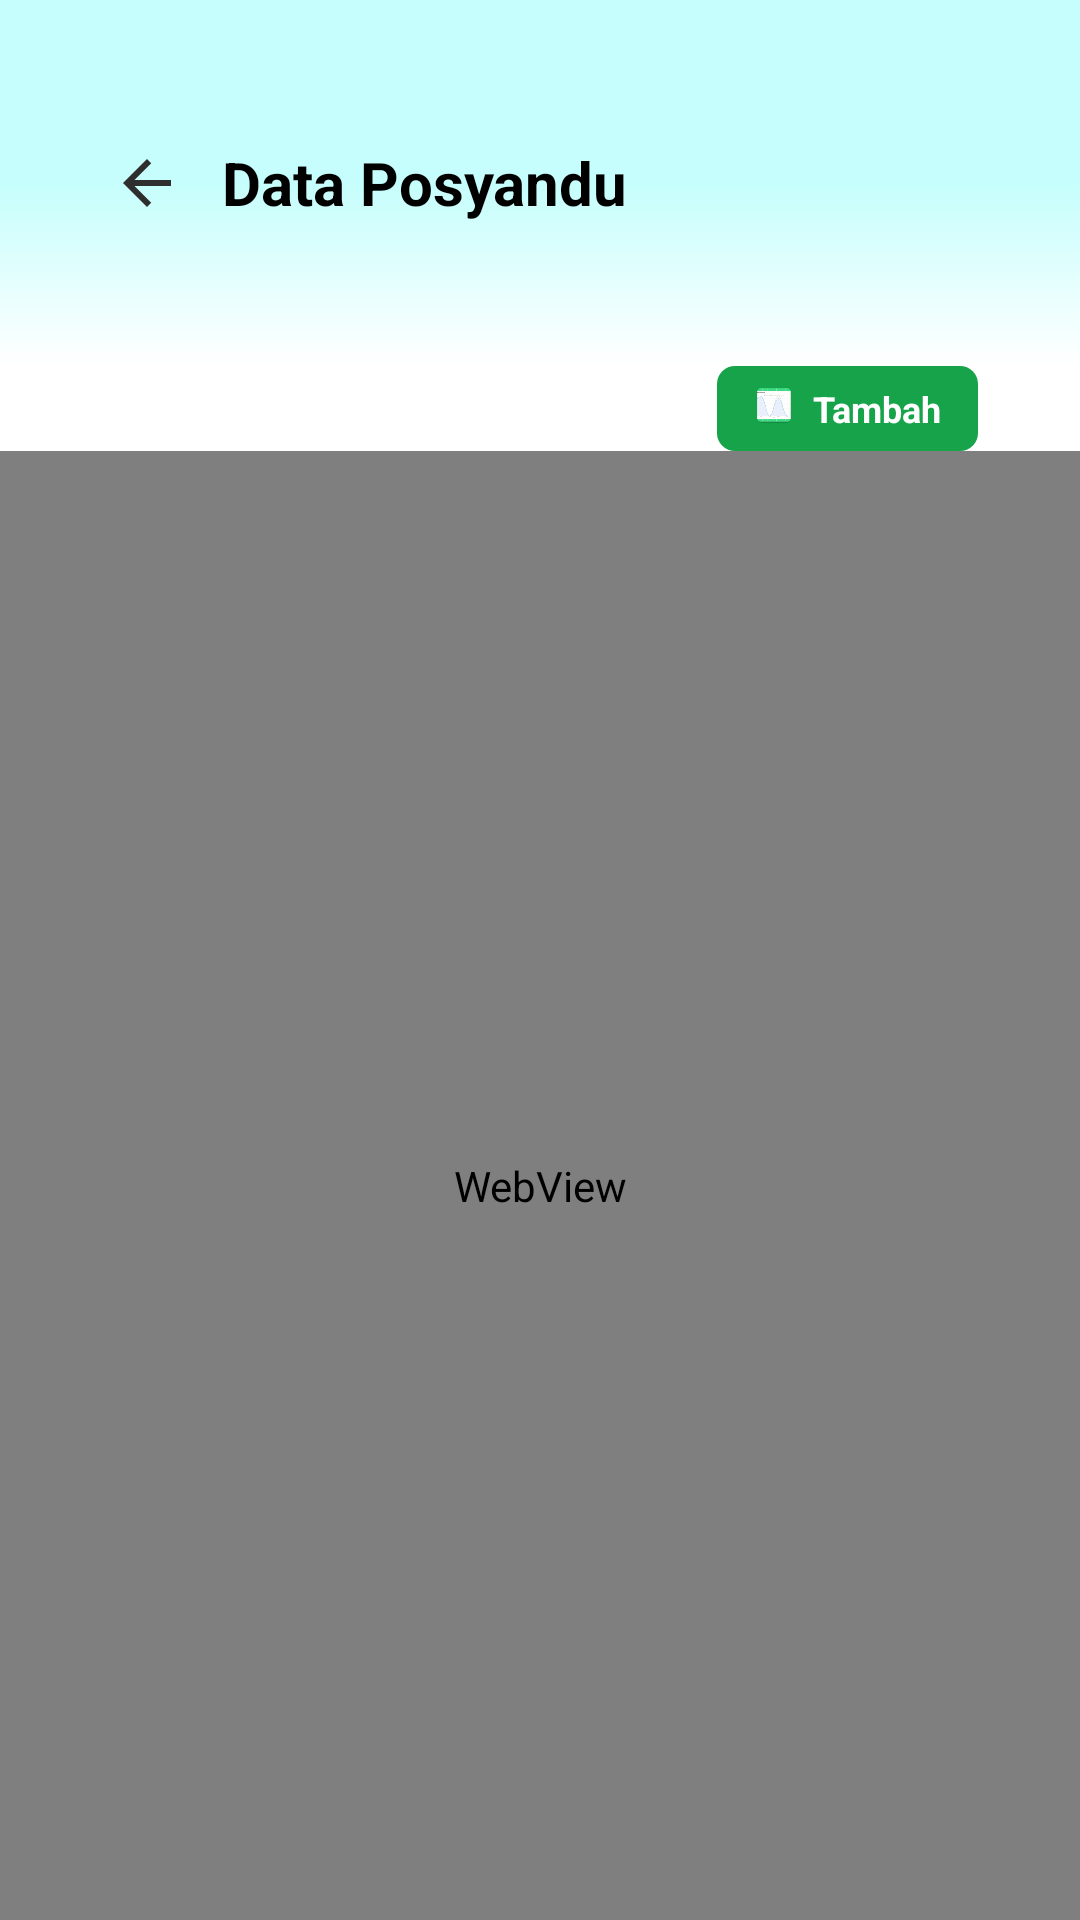

Named icons in this screenshot (1080*1920) and their bounding boxes, (x1, y1, x2, y2):
arrow back: (123, 159, 171, 207)
